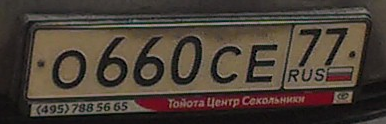character: (165, 36, 205, 90), (127, 36, 166, 91), (95, 36, 129, 90), (51, 45, 89, 92), (207, 43, 243, 87), (246, 41, 279, 86), (296, 27, 323, 70), (322, 27, 350, 68)
